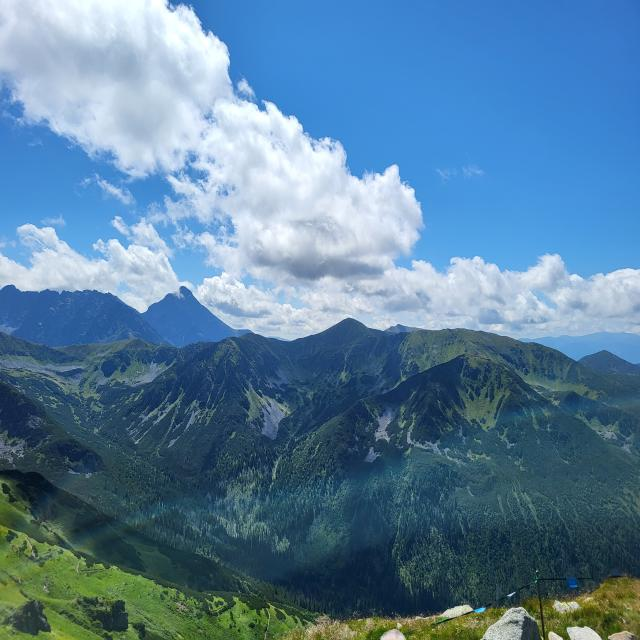Hruby vrch: (0, 256, 23, 314)
Krivan: (118, 235, 255, 345)
Velka kopa: (291, 282, 408, 360)
